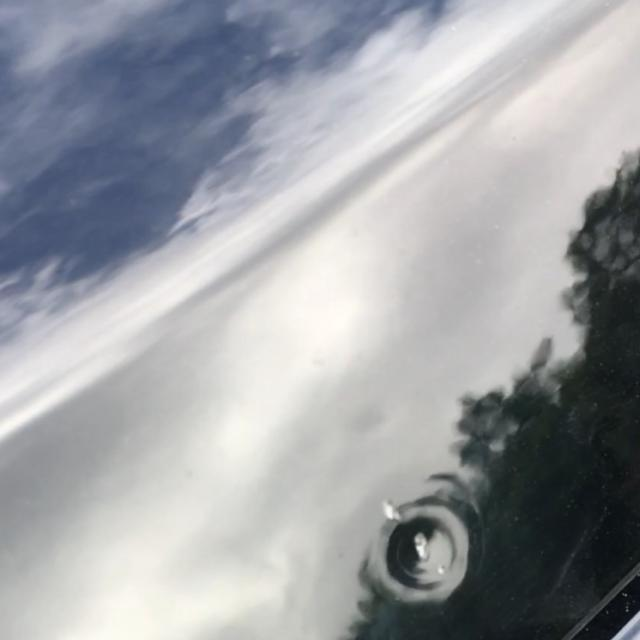dents: (352, 480, 518, 616)
